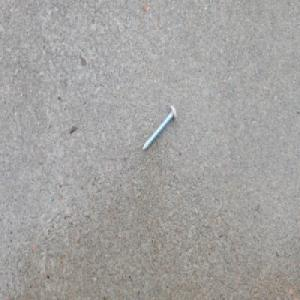Nail: (141, 104, 177, 153)
